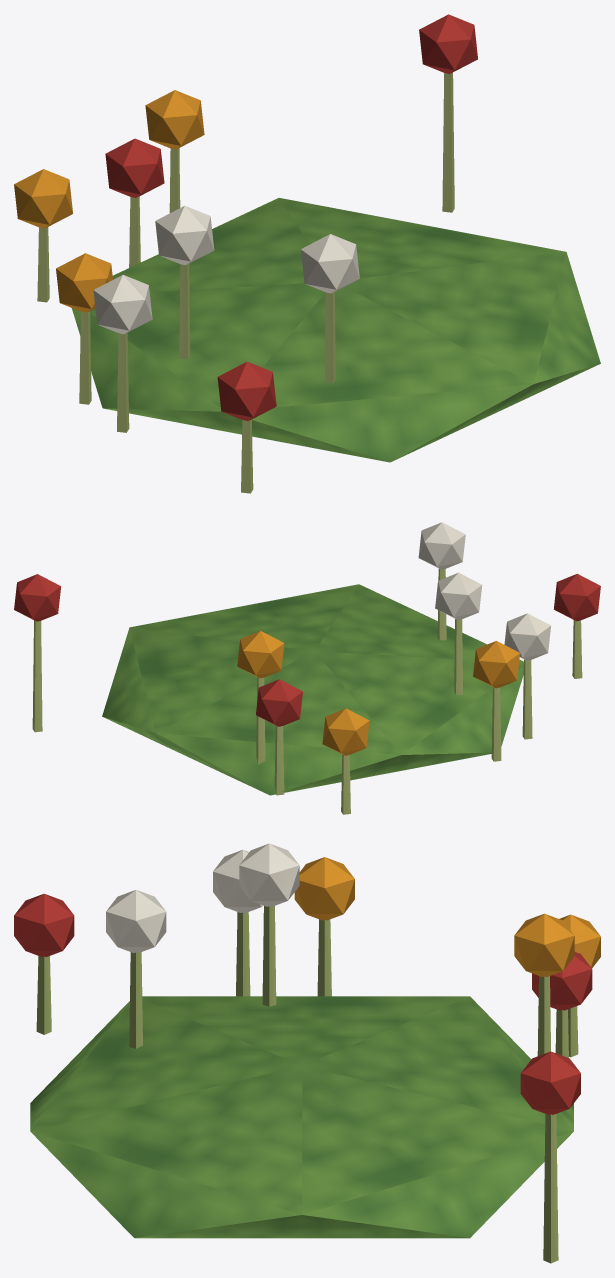
File: SM_Flowers01.fbx
3 views of the same model, one above another, from view 1: azimuth 30°, elevation 25°; view 2: azimuth 150°, elevation 25°; view 3: azimuth 270°, elevation 25° (orthographic). The views are drawn at different scales.
Visible parts, largest first — view 1: SM_Flowers01; view 2: SM_Flowers01; view 3: SM_Flowers01.
Boxes of the visible parts, x1=… form: SM_Flowers01: x1=14, y1=14, x2=600, y2=493; SM_Flowers01: x1=14, y1=522, x2=600, y2=814; SM_Flowers01: x1=14, y1=843, x2=600, y2=1263.
Bounding box in the file's own units: 2.53 × 1.04 × 2.31.
1 material, 1 textured.
